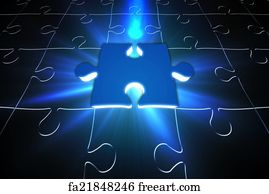puzzle piece: (57, 34, 224, 117)
